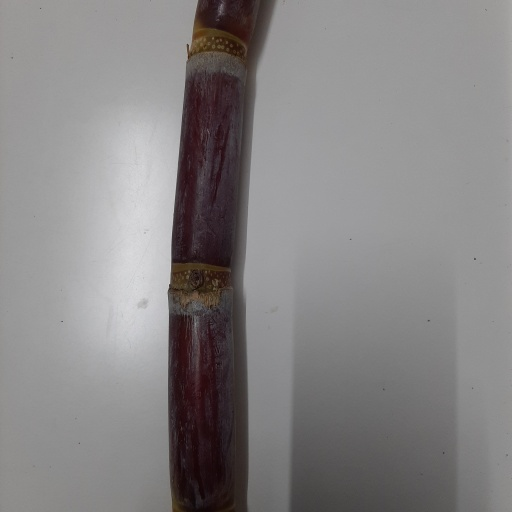Damage_Bud: (188, 269, 205, 290)
